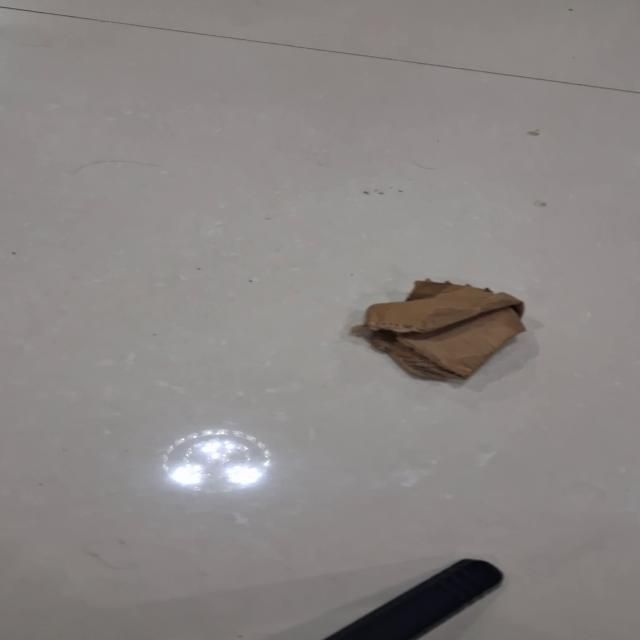paper: (352, 277, 527, 382)
